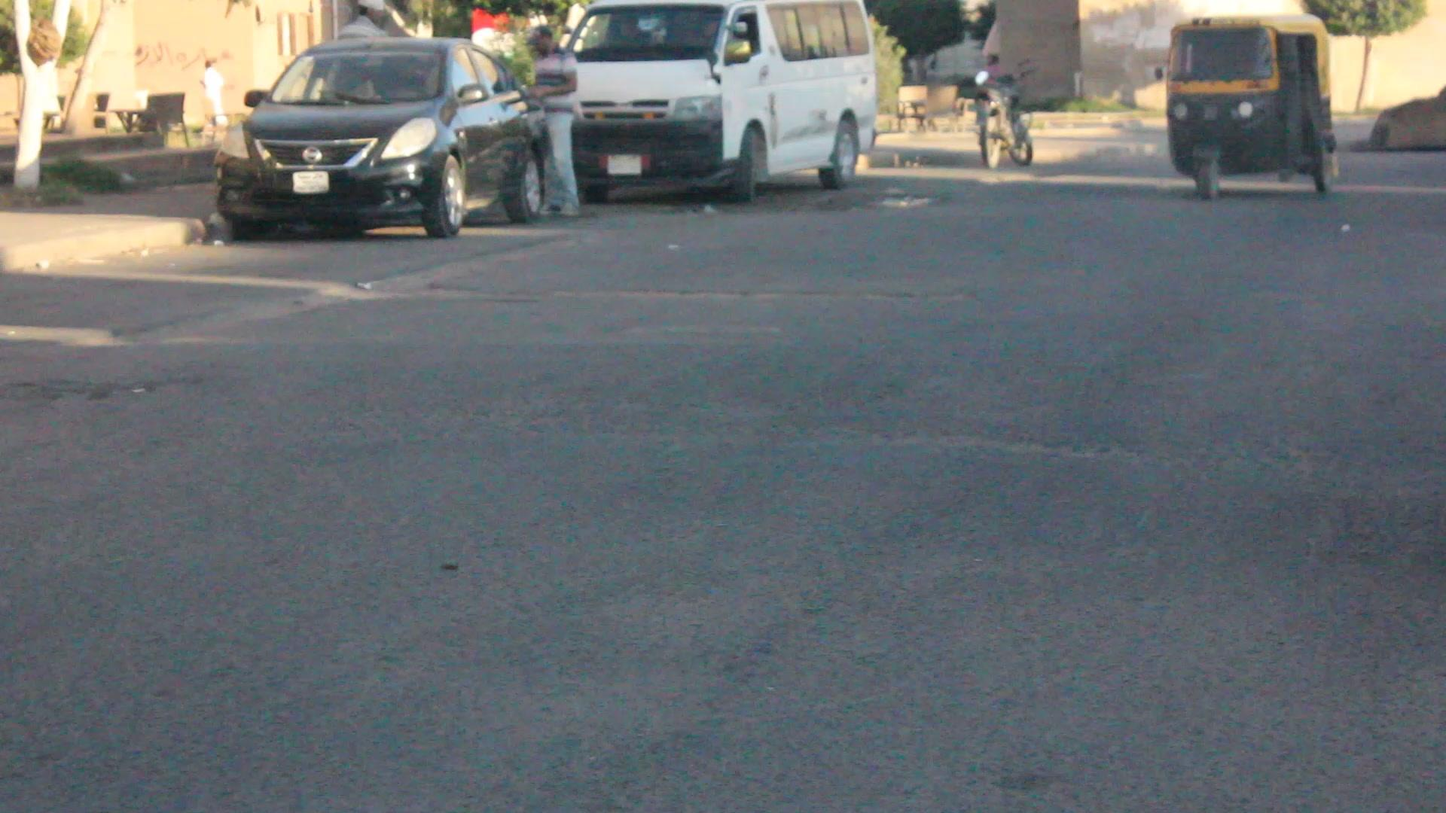Bump: (269, 343, 1446, 450)
